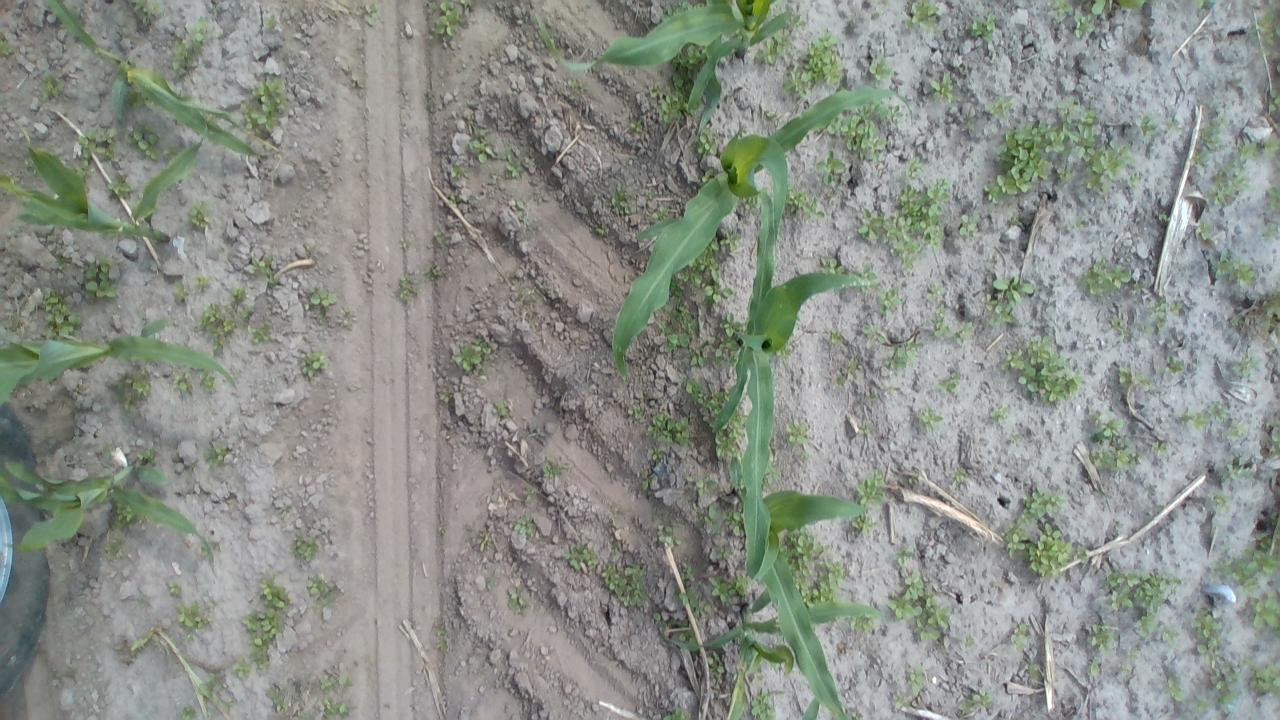Maize: (612, 82, 915, 375), (711, 191, 861, 582), (727, 455, 874, 720), (532, 0, 794, 133), (44, 0, 260, 159), (1, 447, 218, 577), (2, 126, 206, 246), (0, 316, 242, 406), (670, 584, 874, 677), (800, 698, 820, 720)
Weeds: (984, 118, 1066, 204), (1004, 335, 1082, 402), (1106, 570, 1178, 634), (264, 672, 348, 720), (1028, 520, 1086, 578), (896, 180, 949, 241), (864, 320, 922, 371), (1228, 536, 1280, 588), (794, 558, 851, 604), (598, 564, 654, 610), (1231, 295, 1280, 346), (242, 604, 286, 660), (846, 106, 897, 154), (883, 219, 924, 275), (1205, 654, 1240, 714), (1061, 104, 1099, 158), (173, 18, 210, 72), (703, 504, 736, 564), (780, 528, 824, 572), (1088, 144, 1129, 188), (44, 296, 84, 340), (930, 304, 975, 342), (806, 36, 843, 82), (1208, 162, 1244, 207), (664, 300, 696, 350), (1191, 610, 1229, 652), (1086, 263, 1129, 296), (200, 303, 237, 340), (652, 88, 700, 116), (648, 414, 691, 444), (256, 74, 284, 120), (1248, 592, 1280, 630), (1218, 257, 1258, 287), (702, 267, 735, 303), (305, 578, 340, 611), (128, 123, 160, 159), (1022, 487, 1062, 515), (710, 574, 750, 602), (452, 344, 490, 373), (992, 275, 1034, 301), (1088, 410, 1124, 440), (1248, 666, 1280, 698), (1260, 410, 1280, 461), (1002, 519, 1028, 556), (258, 578, 290, 608), (816, 154, 846, 186), (922, 594, 949, 628), (1259, 5, 1280, 48), (858, 470, 884, 503), (909, 2, 939, 30), (566, 548, 598, 574), (858, 207, 884, 239), (782, 70, 811, 98), (300, 352, 330, 379), (85, 270, 116, 296), (673, 52, 698, 84), (889, 594, 922, 618), (176, 602, 206, 628), (1091, 448, 1134, 466), (92, 128, 119, 156), (748, 690, 773, 720), (786, 414, 811, 444), (125, 381, 151, 409), (972, 14, 998, 42), (961, 690, 991, 714), (434, 3, 456, 35), (1089, 3, 1143, 16), (714, 433, 739, 461), (1116, 365, 1147, 387), (240, 103, 266, 128), (930, 73, 954, 100), (1224, 416, 1248, 442), (914, 617, 940, 641), (294, 536, 320, 560), (42, 73, 66, 99), (198, 677, 225, 700), (1200, 118, 1220, 148), (986, 95, 1016, 115), (1090, 623, 1116, 646), (1011, 620, 1032, 648), (1226, 460, 1255, 480), (1178, 411, 1206, 431), (716, 336, 740, 359), (988, 302, 1014, 323), (758, 36, 777, 64), (904, 570, 926, 594), (134, 0, 158, 22), (869, 59, 893, 81), (824, 118, 850, 138), (1230, 357, 1264, 372), (788, 187, 808, 212), (108, 174, 130, 196), (907, 664, 923, 694), (72, 136, 92, 160), (722, 226, 742, 250), (509, 585, 526, 613), (678, 557, 695, 585), (542, 460, 570, 477), (694, 128, 712, 154), (838, 358, 857, 382), (723, 312, 742, 336), (617, 186, 633, 214), (307, 288, 335, 304), (682, 264, 704, 284), (1073, 16, 1093, 38), (804, 198, 824, 220), (510, 519, 533, 538), (192, 204, 210, 228), (959, 214, 978, 236), (884, 286, 900, 312), (853, 513, 873, 533), (940, 370, 960, 390), (924, 278, 942, 300), (478, 139, 495, 162), (951, 466, 966, 492), (818, 258, 842, 274), (171, 372, 191, 391), (851, 616, 878, 630), (679, 587, 700, 605), (1167, 678, 1182, 702), (233, 660, 251, 680), (400, 279, 418, 299), (1265, 187, 1280, 211), (108, 538, 125, 559), (656, 524, 672, 546), (253, 260, 278, 274), (776, 30, 794, 49), (1268, 86, 1280, 114), (1139, 115, 1155, 136), (1208, 493, 1226, 511), (992, 406, 1012, 422), (114, 506, 134, 522), (1238, 142, 1258, 158), (1168, 296, 1184, 316), (434, 624, 447, 648), (1162, 358, 1184, 372), (505, 156, 519, 178), (1156, 298, 1166, 328), (1210, 402, 1228, 418), (731, 412, 745, 432), (1198, 220, 1212, 240), (95, 254, 112, 270), (253, 326, 270, 342), (1152, 439, 1170, 454), (686, 474, 704, 489), (1194, 696, 1208, 715), (920, 412, 942, 424), (894, 694, 910, 710), (264, 14, 280, 30), (628, 122, 644, 138), (1192, 148, 1208, 164), (1028, 664, 1042, 682), (767, 466, 779, 486), (207, 448, 227, 460), (712, 388, 722, 412), (0, 42, 13, 60), (670, 709, 691, 720), (454, 163, 469, 178), (691, 348, 702, 368), (864, 262, 876, 280), (681, 378, 696, 392), (197, 274, 210, 290), (1261, 136, 1277, 149), (1090, 658, 1101, 676), (1162, 627, 1176, 641), (202, 375, 216, 389), (1070, 214, 1082, 230), (232, 287, 248, 299), (652, 444, 664, 460), (182, 706, 195, 720), (129, 92, 142, 106), (1110, 316, 1124, 329), (741, 197, 756, 209), (173, 284, 184, 300), (640, 470, 649, 489), (1134, 279, 1146, 293), (626, 407, 640, 419), (364, 2, 378, 14), (523, 486, 535, 500), (1130, 172, 1140, 188), (1011, 433, 1027, 443), (908, 162, 918, 178), (430, 231, 442, 244), (1121, 330, 1132, 344), (520, 212, 530, 227), (75, 164, 91, 173), (696, 391, 706, 405), (1054, 2, 1068, 12), (829, 330, 843, 340), (860, 420, 871, 432), (964, 636, 976, 646), (866, 390, 876, 402), (440, 392, 452, 402), (167, 584, 180, 593), (212, 342, 224, 351), (430, 264, 440, 274), (243, 307, 253, 317), (499, 406, 508, 417), (598, 226, 610, 234), (1157, 214, 1169, 222), (576, 83, 586, 92)
